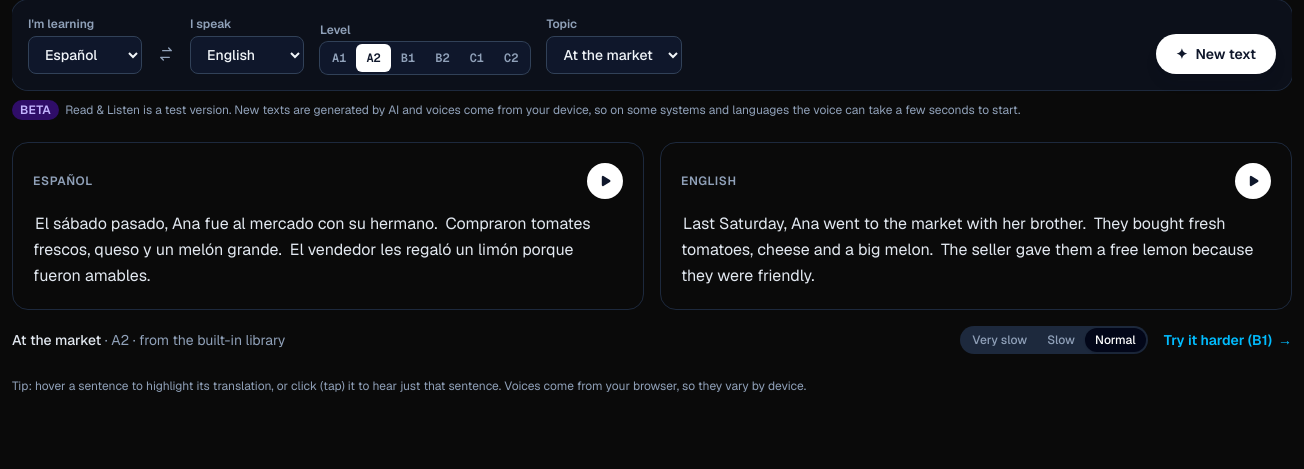
Test case: Read & Listen page › keeps the current text and shows the error when a request fails
What coordinates should you click on to do the following:
click the button "✦ New text"
I would click on:
 (1216, 54)
Its box is [1156,34,1276,74].
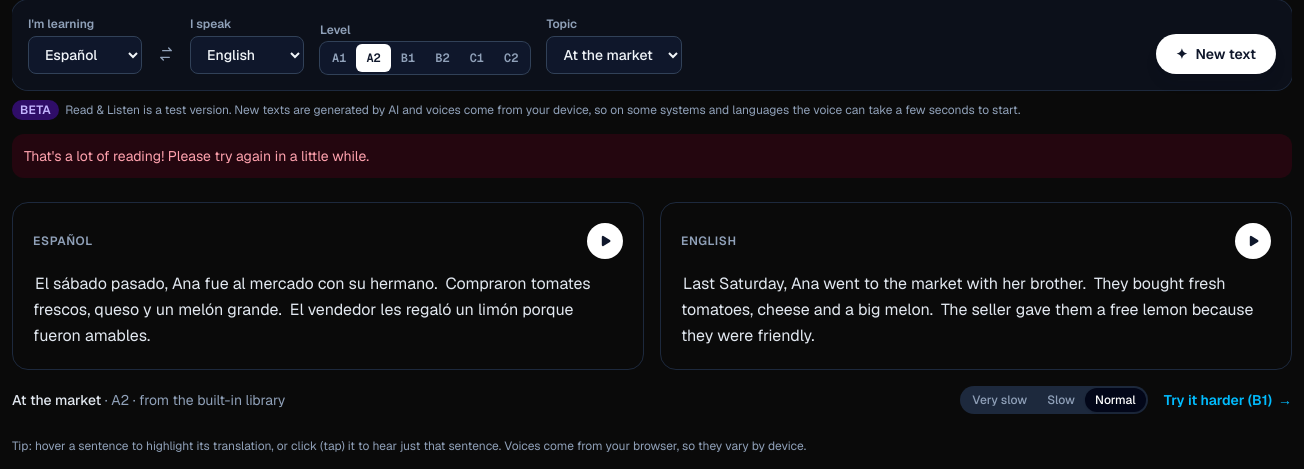
Expected: the button "El sábado pasado, Ana fue al mercado con su hermano." is shown, [33,273,439,294]
Expected: the message shows "lot of reading", [24,147,369,165]
